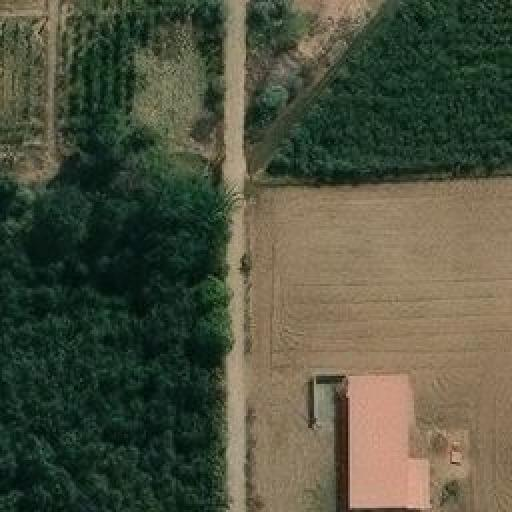manzanas: (304, 373, 476, 510)
